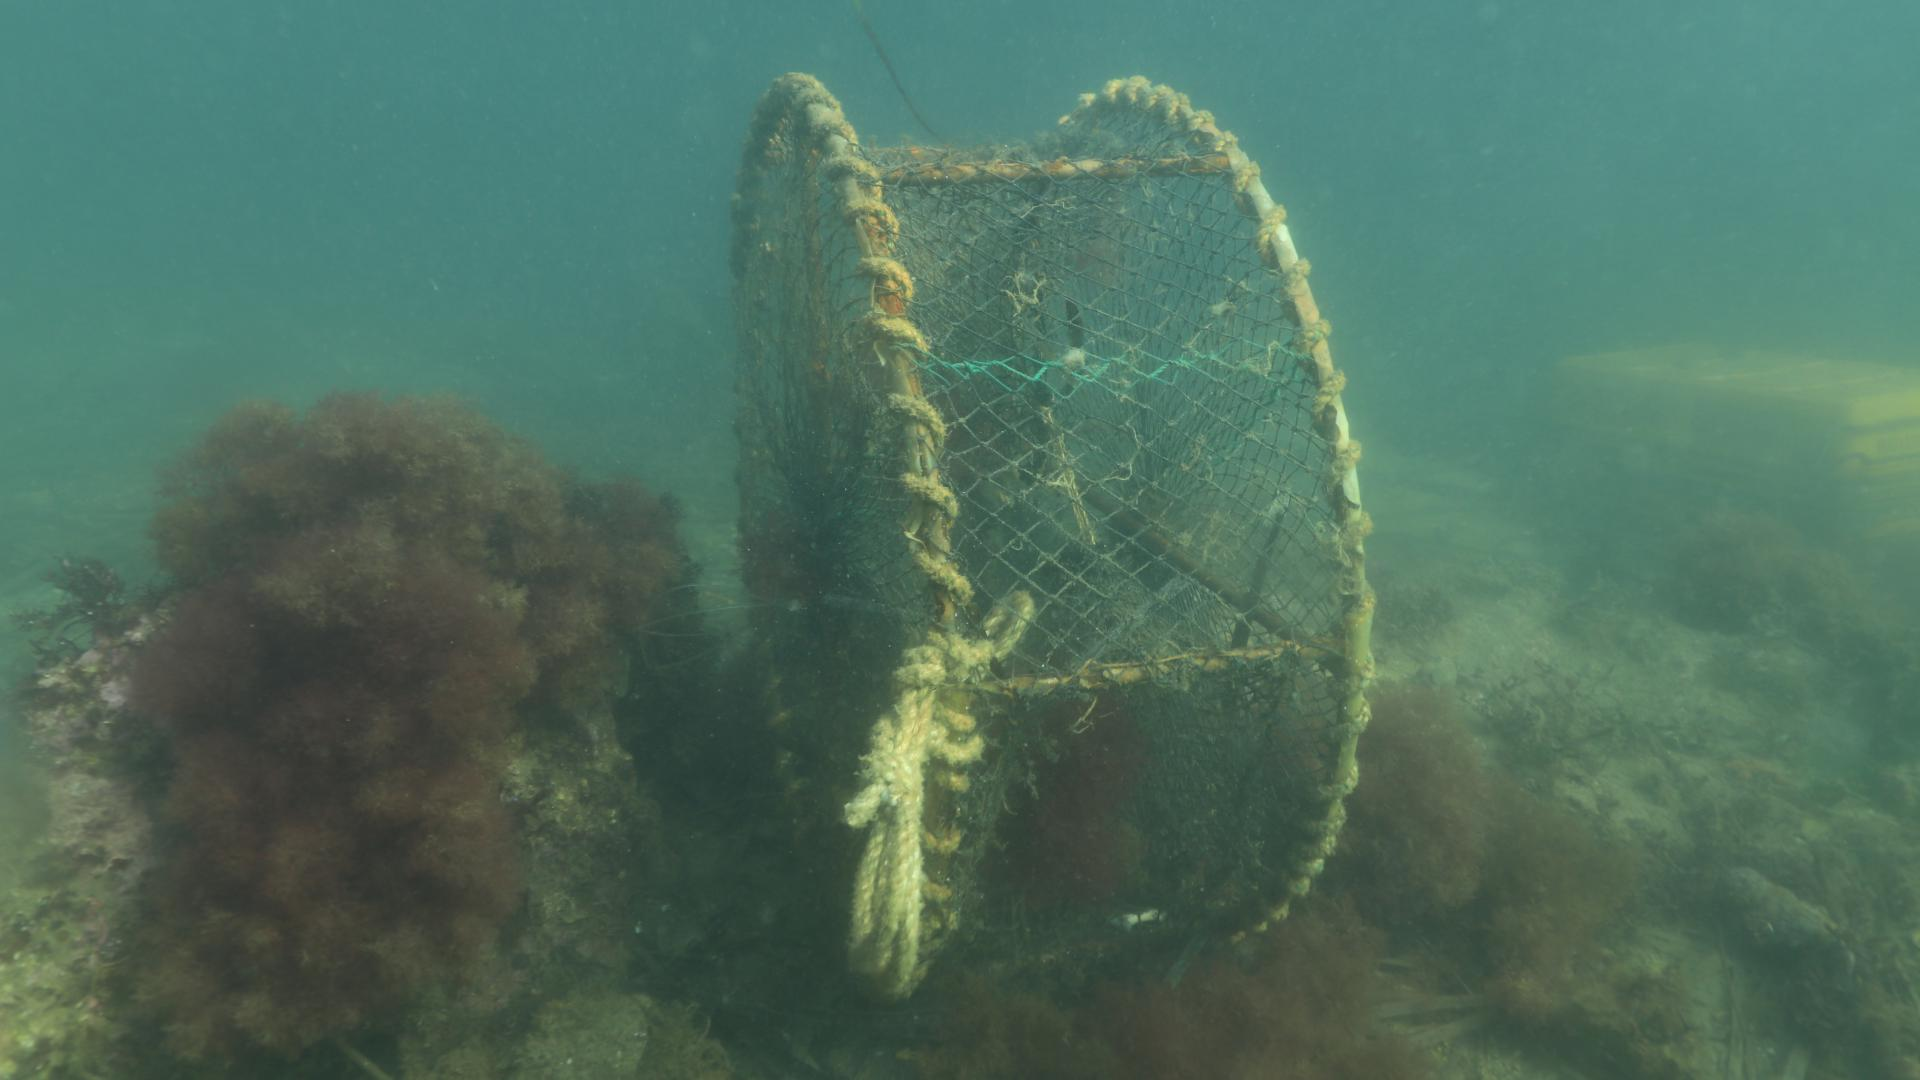circular fish trap: (728, 73, 1377, 1007)
